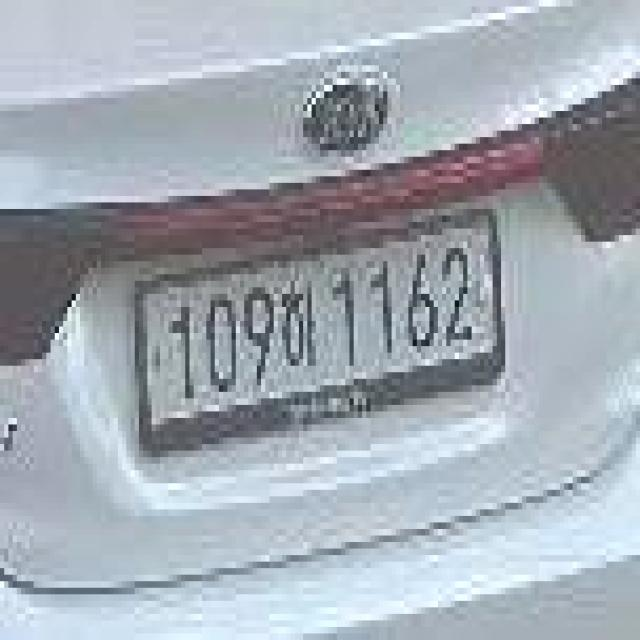illegal_plate: (131, 213, 514, 446)
